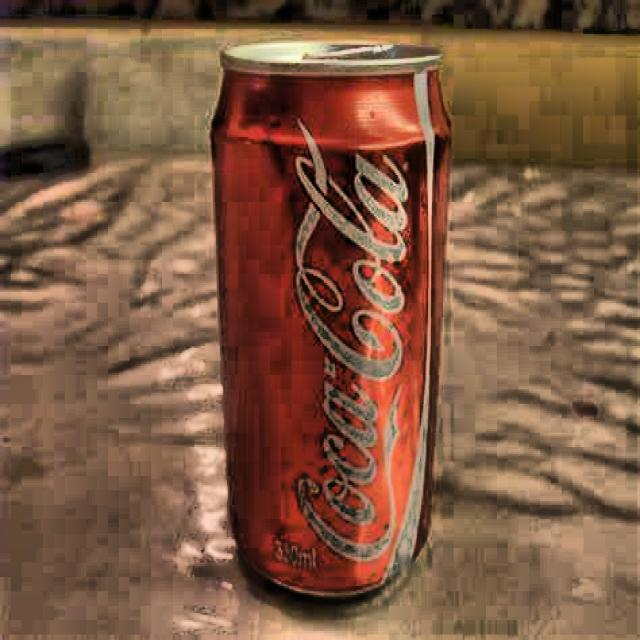Cans: (201, 17, 476, 625)
